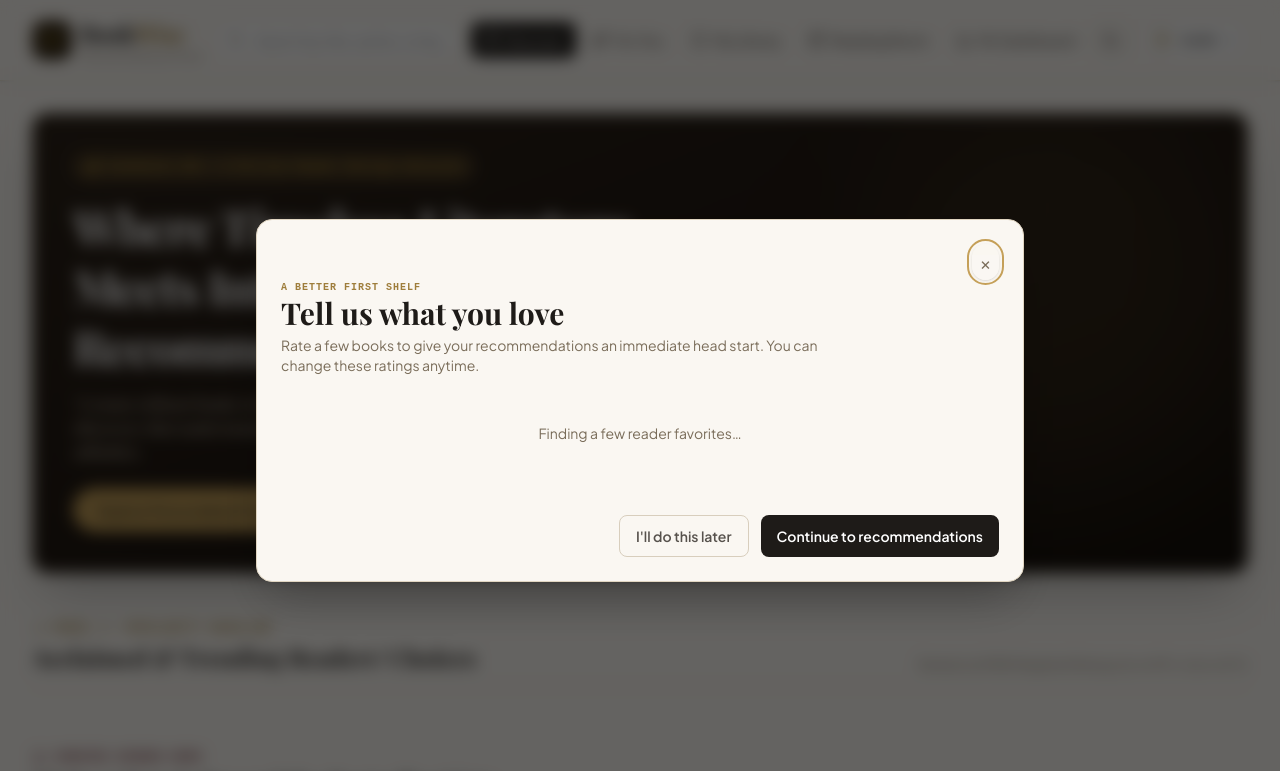
Test: phase four app integration › dismisses onboarding without treating the click event as a book
Step 1. Click the button "I'll do this later" → (684, 536), box [619,514,748,556]
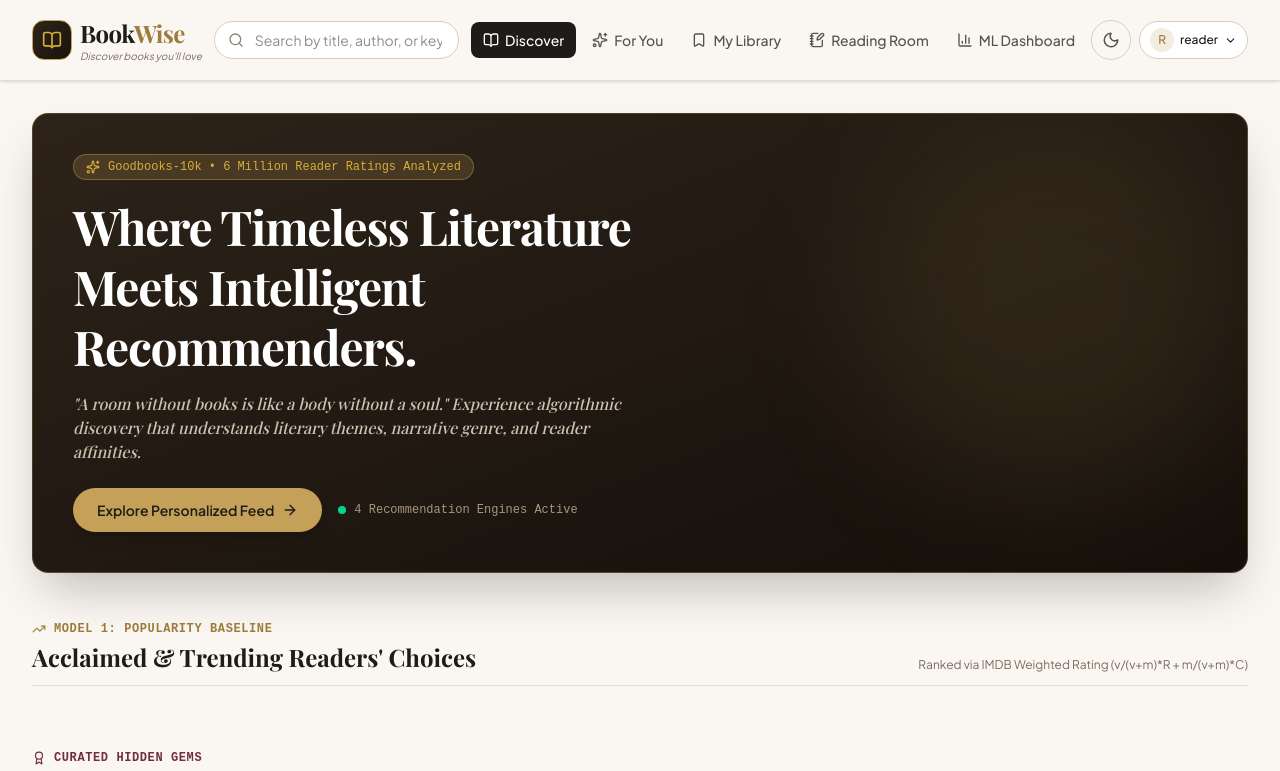
Expected: the dialog is gone
